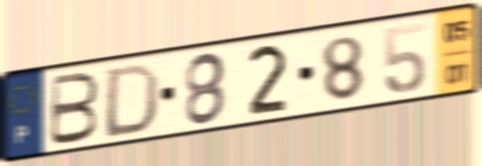2: (247, 42, 289, 117)
5: (381, 19, 427, 96)
8: (317, 33, 370, 103), (183, 49, 228, 128)
B: (47, 70, 103, 149)
D: (99, 61, 163, 142)
